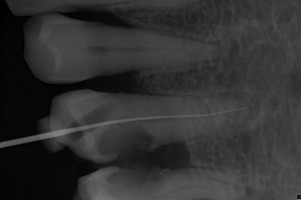Furcation Involvement: (220, 90, 262, 121)
